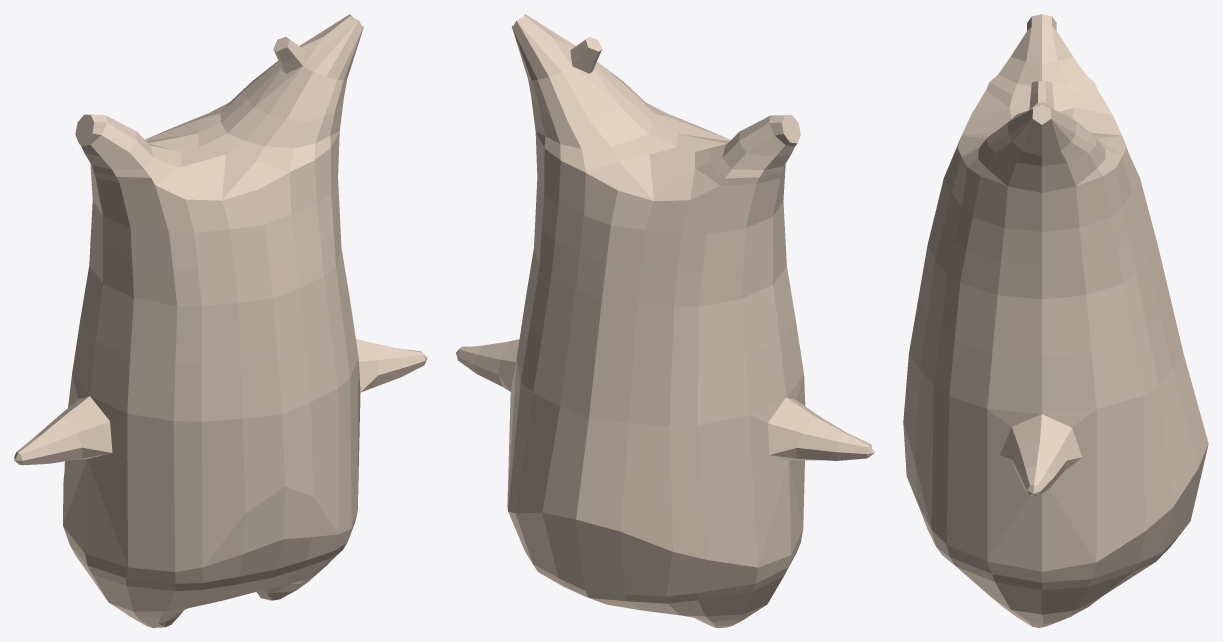
File: frame_0093.obj
3 renders of one model, left to right at view 1: azimuth 30°, elevation 25°; view 2: azimuth 150°, elevation 25°; view 3: azimuth 270°, elevation 25°, orthographic.
Parts seen in each view (by area): view 1: korok; view 2: korok; view 3: korok.
Part boxes in pixels (x1,y1,x2,y2): korok: [14, 14, 427, 627]; korok: [456, 14, 874, 627]; korok: [903, 14, 1208, 627].
Bounding box in the file's own units: 1.66 × 2.16 × 1.07.
